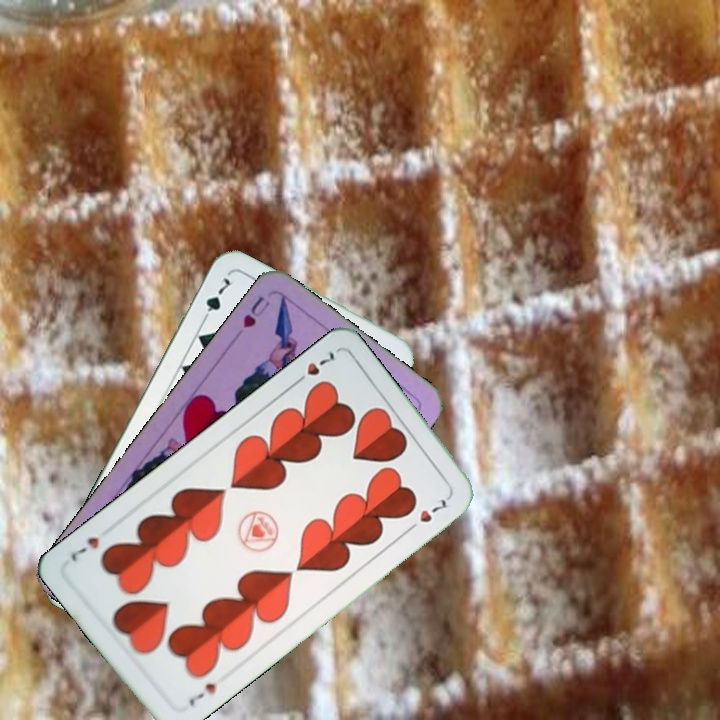G7: (197, 273, 233, 327)
H7: (289, 346, 338, 388), (185, 679, 221, 709)
HU: (239, 292, 273, 331)
